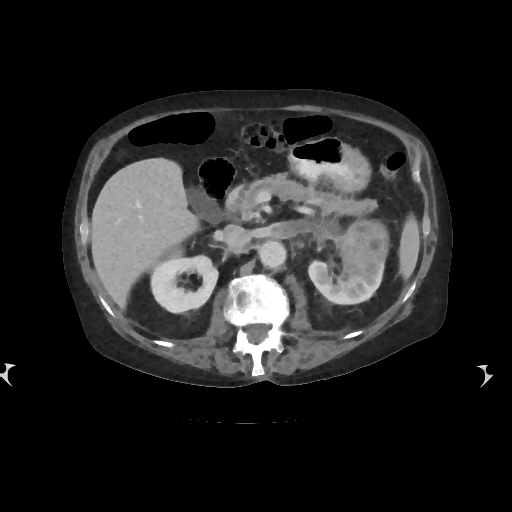Lesion: (337, 217, 394, 284)
